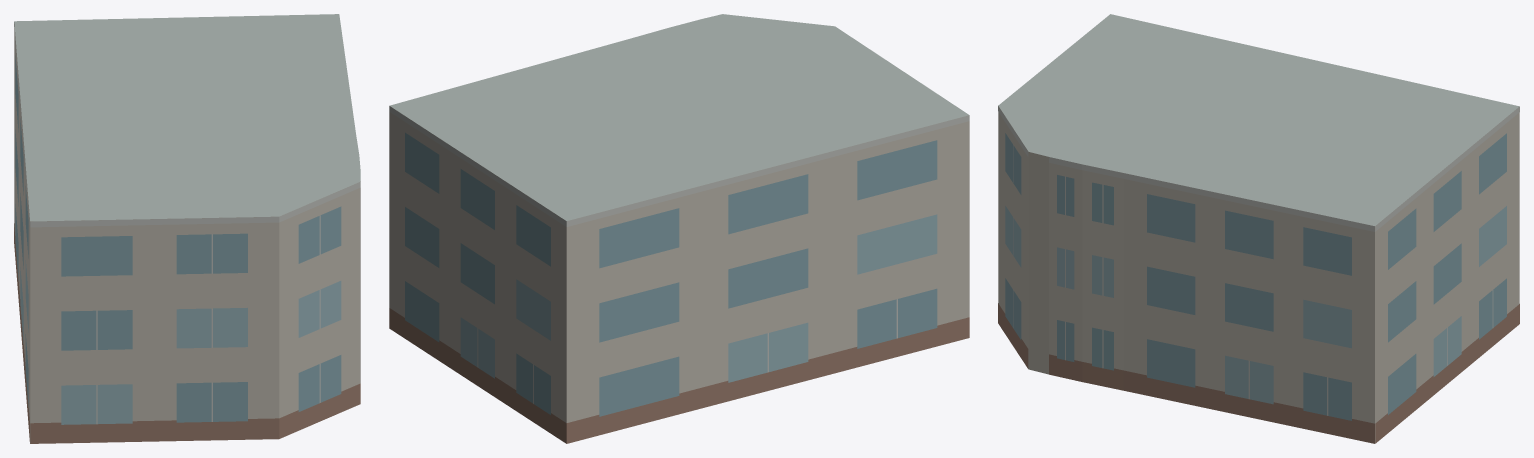
Rendered from survey-upis-32887757.glb.
3 renders of one model, left to right at view 1: azimuth 30°, elevation 25°; view 2: azimuth 150°, elevation 25°; view 3: azimuth 270°, elevation 25°, orthographic. The views are drawn at different scales.
Visible parts, largest first — view 1: survey-upis-32887757.tmp; view 2: survey-upis-32887757.tmp; view 3: survey-upis-32887757.tmp.
Boxes of the visible parts, <box> form: survey-upis-32887757.tmp: <box>14,14,360,443</box>; survey-upis-32887757.tmp: <box>389,14,969,443</box>; survey-upis-32887757.tmp: <box>998,14,1519,443</box>.
Bounding box in the file's own units: 19.14 × 9.15 × 19.88.
